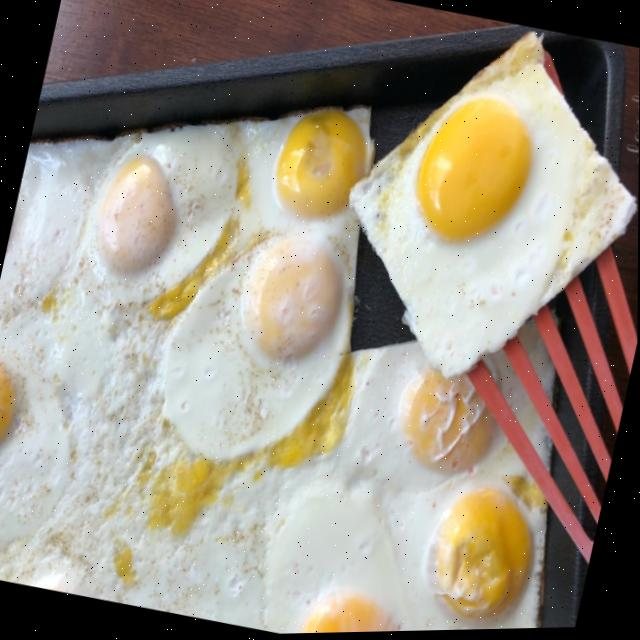Egg: (165, 211, 358, 458), (84, 126, 238, 302)
